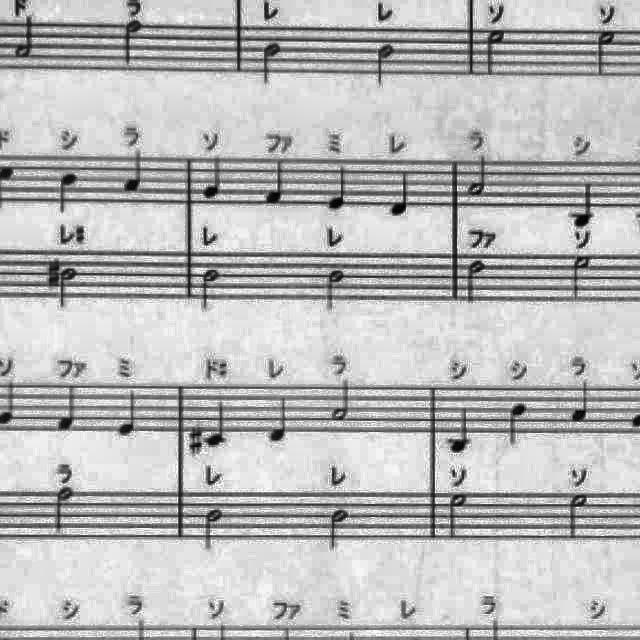Diez: (186, 424, 204, 460), (43, 256, 61, 292)
Half-note: (481, 24, 511, 80), (120, 15, 148, 71), (50, 485, 78, 539), (444, 490, 472, 544), (592, 28, 620, 80), (200, 502, 228, 554), (462, 256, 490, 308), (568, 252, 594, 306), (198, 265, 226, 315), (259, 39, 287, 89), (10, 13, 38, 63), (323, 265, 349, 315), (371, 42, 397, 92), (566, 489, 590, 543), (330, 378, 356, 427), (328, 505, 352, 555), (464, 153, 490, 199), (58, 264, 82, 312)
Quarter-note: (120, 146, 152, 198), (568, 178, 600, 230), (445, 402, 475, 456), (54, 380, 82, 436), (54, 169, 84, 219), (386, 169, 414, 221), (262, 156, 290, 208), (326, 160, 354, 212), (203, 398, 230, 450), (265, 393, 291, 447), (566, 378, 594, 428), (200, 153, 228, 203), (114, 386, 140, 439), (506, 398, 532, 450)
